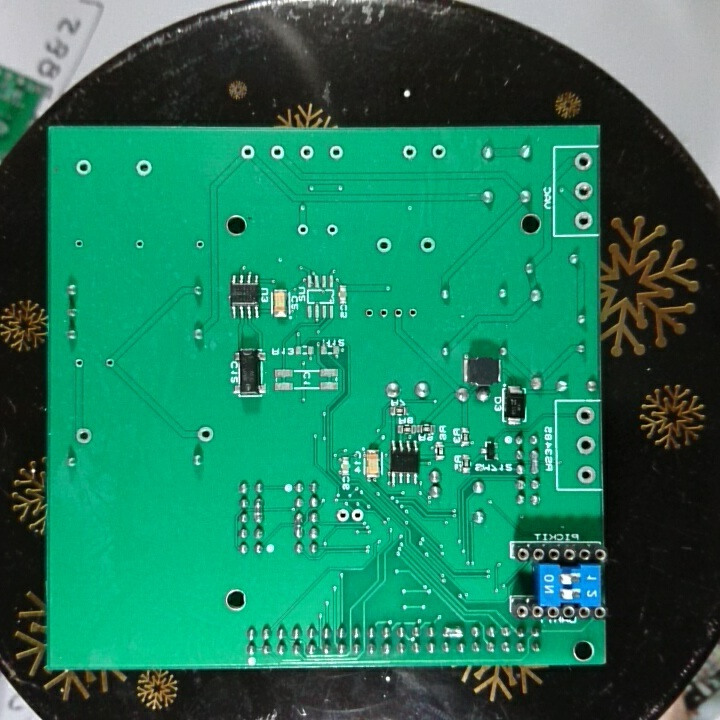F: (417, 233, 440, 256), (572, 150, 594, 173), (73, 426, 96, 448), (134, 157, 156, 180), (572, 208, 594, 230), (572, 180, 595, 201), (574, 404, 594, 428), (575, 433, 595, 457), (575, 465, 597, 486), (195, 422, 215, 444), (237, 143, 259, 163), (297, 142, 317, 164), (374, 236, 394, 258), (72, 158, 94, 177), (428, 141, 450, 160), (268, 143, 288, 162), (326, 142, 345, 162), (398, 143, 418, 162), (334, 506, 351, 526), (323, 221, 342, 238), (130, 235, 148, 252), (294, 221, 311, 238), (101, 355, 117, 372), (72, 356, 87, 374), (193, 236, 208, 252), (351, 506, 365, 523), (362, 305, 377, 320), (391, 306, 405, 321), (405, 306, 419, 320), (73, 235, 86, 249), (377, 306, 389, 321)
P: (251, 495, 266, 525), (527, 447, 541, 476), (440, 624, 465, 640), (293, 509, 304, 538)
